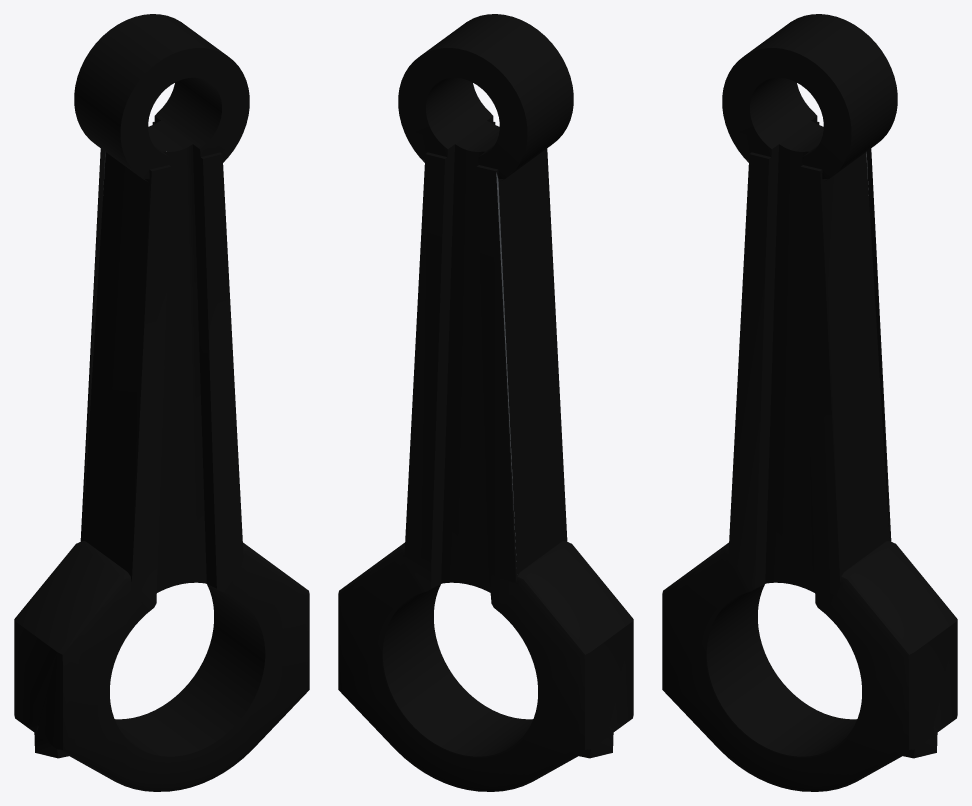
File: ConnectingRod.fbx
3 renders of one model, left to right at view 1: azimuth 30°, elevation 25°; view 2: azimuth 150°, elevation 25°; view 3: azimuth 330°, elevation 25°, orthographic.
Visible parts, largest first — view 1: ConnectingRod; view 2: ConnectingRod; view 3: ConnectingRod.
Boxes of the visible parts, box(x1,y1,x2,y2) form: ConnectingRod: box(14, 14, 309, 791); ConnectingRod: box(338, 14, 633, 791); ConnectingRod: box(662, 14, 957, 791).
Size of the model in its own units: 0.0624 by 0.1737 by 0.0219.
Materials: 1 (1 with a texture image).
